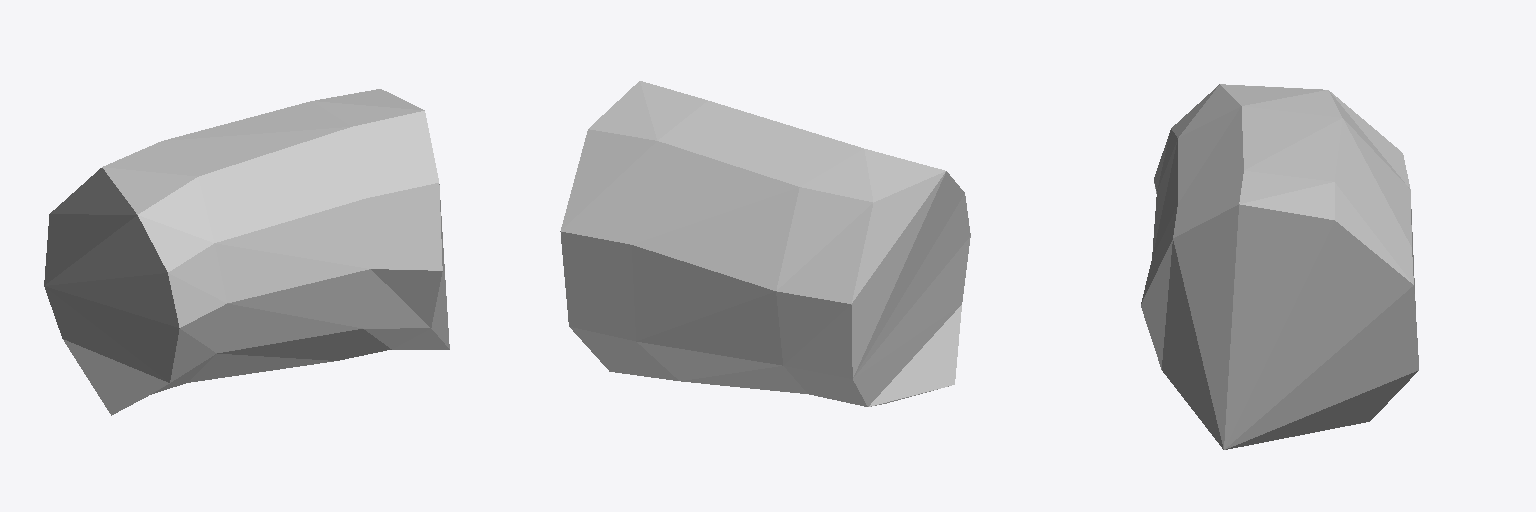
The model's file is pinky2.obj.
3 renders of one model, left to right at view 1: azimuth 30°, elevation 25°; view 2: azimuth 150°, elevation 25°; view 3: azimuth 270°, elevation 25°, orthographic.
Size of the model in its own units: 21.3 by 15.25 by 15.51.